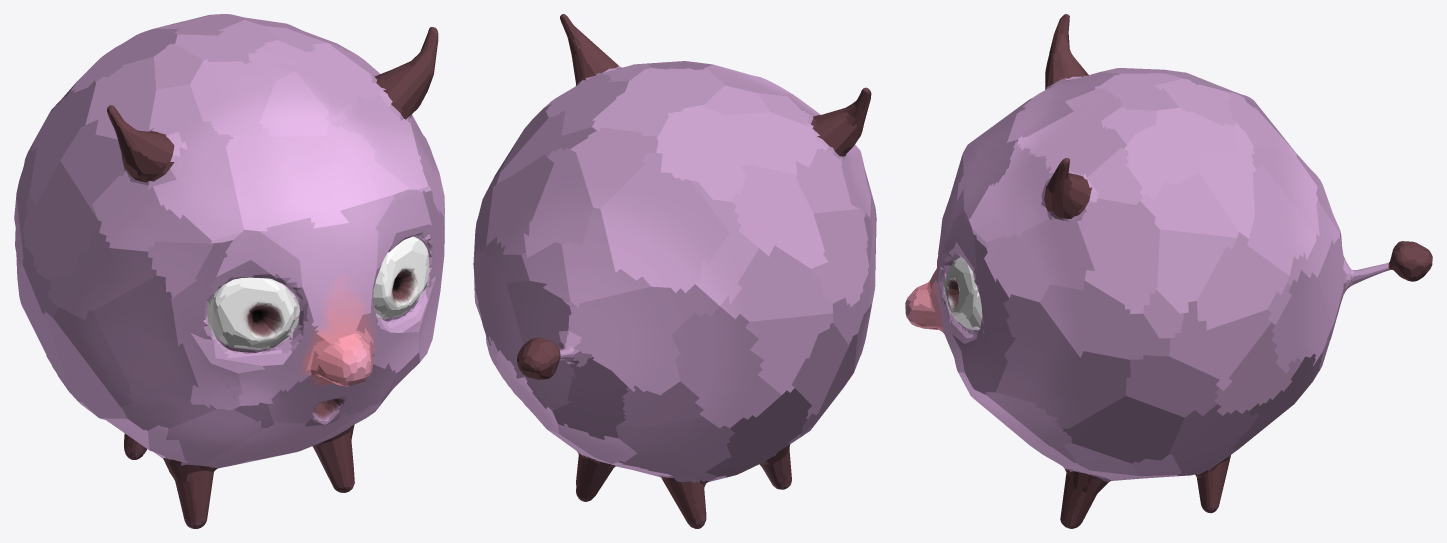
File: monster.glb
3 views of the same model, side by side, from view 1: azimuth 30°, elevation 25°; view 2: azimuth 150°, elevation 25°; view 3: azimuth 270°, elevation 25° (orthographic). The views are drawn at different scales.
Visible parts, largest first — view 1: Sphere; view 2: Sphere; view 3: Sphere.
Boxes of the visible parts, box(x1,y1,x2,y2) form: Sphere: box(14, 14, 444, 528); Sphere: box(473, 14, 876, 528); Sphere: box(905, 14, 1432, 528).
Bounding box in the file's own units: 1.96 × 2.19 × 2.57.
Materials: 1 (1 with a texture image).
